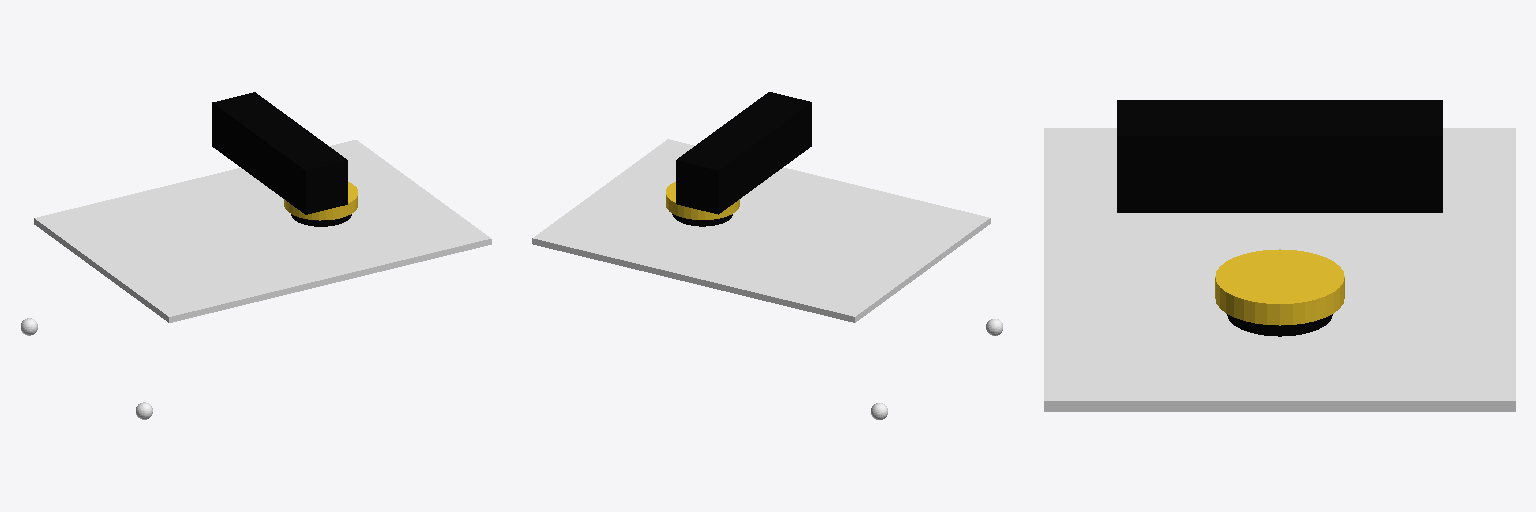
robot.urdf — swd_starter_kit:
<!-- SWD Starter Kit URDF with colored materials -->

<robot name="swd_starter_kit">

  <!-- ========= GLOBAL MATERIALS ========= -->
  <material name="body_dark_grey">
    <color rgba="0.20 0.20 0.22 1.0"/>
  </material>

  <material name="body_light_grey">
    <color rgba="0.70 0.70 0.72 1.0"/>
  </material>

  <material name="wheel_orange">
    <color rgba="0.90 0.55 0.15 1.0"/>
  </material>

  <material name="sensor_yellow">
    <color rgba="0.95 0.80 0.20 1.0"/>
  </material>

  <material name="sensor_black">
    <color rgba="0.05 0.05 0.05 1.0"/>
  </material>

  <material name="caster_white">
    <color rgba="0.95 0.95 0.95 1.0"/>
  </material>

  <material name="acrylic_clear">
    <!-- transparent top plate -->
    <color rgba="0.95 0.95 0.95 0.25"/>
  </material>

  <!-- ========= BASE FOOTPRINT ========= -->
  <link name="base_footprint"/>

  <joint name="base_joint" type="fixed">
    <parent link="base_footprint"/>
    <child link="base_link" />
    <origin xyz="0 0 0" rpy="0 0 0"/>
  </joint>

  <!-- ========= BASE LINK (METAL BODY + TOP PLATE) ========= -->
  <link name="base_link">
    <!-- main body mesh -->
    <visual>
      <origin xyz="-0.46 -0.27 0.0" rpy="0 0 0" />
      <geometry>
        <mesh
            filename="package://swd_starter_kit_description/meshes/starter_kit_base.stl"
            scale="0.001 0.001 0.001" />
      </geometry>
      <material name="body_dark_grey"/>
    </visual>

    <!-- simple transparent top plate (approximation of acrylic cover) -->
    <visual>
      <!-- adjust xyz/size if you want it tighter -->
      <origin xyz="-0.05 0 0.18" rpy="0 0 0"/>
      <geometry>
        <box size="0.55 0.40 0.01"/>
      </geometry>
      <material name="acrylic_clear"/>
    </visual>

    <collision>
      <origin xyz="-0.46 -0.27 0.0" rpy="0 0 0" />
      <geometry>
        <mesh
            filename="package://swd_starter_kit_description/meshes/starter_kit_base.stl"
            scale="0.001 0.001 0.001"/>
      </geometry>
    </collision>

    <inertial>
      <origin xyz="-0.05 0 0" rpy="0 0 0"/>
      <mass value="27"/>
      <inertia ixx="0.70673" ixy="0.0" ixz="0.0"
               iyy="0.70673" iyz="0.0"
               izz="1.31220" />
    </inertial>
  </link>

  <!-- ========= DRIVE WHEELS ========= -->
  <joint name="base_swd_left_joint" type="continuous">
    <parent link="base_link" />
    <child link="swd_left_link" />
    <origin xyz="0.0 0.25 0.08" rpy="-1.57 0 0" />
    <axis xyz="0 0 1" />
  </joint>

  <link name="swd_left_link">
    <visual>
      <origin xyz="0 0 0" rpy="1.57 0 0"/>
      <geometry>
        <mesh filename="package://swd_starter_kit_description/meshes/wheels/starter_kit_left_tire.stl"
               scale="0.001 0.001 0.001"/>
      </geometry>
      <material name="wheel_orange"/>
    </visual>

    <collision>
      <origin xyz="0 0 0" rpy="0 0 0"/>
      <geometry>
        <cylinder length="0.037" radius="0.0630"/>
      </geometry>
    </collision>

    <inertial>
      <origin xyz="0 0 0" />
      <mass value="1" />
      <inertia ixx="0.00111" ixy="0.0" ixz="0.0"
               iyy="0.00111" iyz="0.0"
               izz="0.00198" />
    </inertial>
  </link>

  <joint name="base_swd_right_joint" type="continuous">
    <parent link="base_link" />
    <child link="swd_right_link" />
    <origin xyz="0.0 -0.25 0.08" rpy="-1.57 0 0" />
    <axis xyz="0 0 1" />
  </joint>

  <link name="swd_right_link">
    <visual>
      <origin xyz="0 0 0" rpy="1.57 0 0"/>
      <geometry>
        <mesh filename="package://swd_starter_kit_description/meshes/wheels/starter_kit_right_tire.stl"
               scale="0.001 0.001 0.001"/>
      </geometry>
      <material name="wheel_orange"/>
    </visual>

    <collision>
      <origin xyz="0 0 0" rpy="0 0 0"/>
      <geometry>
        <cylinder length="0.037" radius="0.0630"/>
      </geometry>
    </collision>

    <inertial>
      <origin xyz="0 0 0" />
      <mass value="1" />
      <inertia ixx="0.00111" ixy="0.0" ixz="0.0"
               iyy="0.00111" iyz="0.0"
               izz="0.00198" />
    </inertial>
  </link>

  <!-- ========= REAR CASTERS ========= -->
  <joint name="caster_back_right_joint" type="fixed">
    <parent link="base_link"/>
    <child link="caster_back_right_link"/>
    <origin xyz="-0.35 -0.17 0.025" rpy="0 0 0"/>
  </joint>

  <link name="caster_back_right_link">
    <visual>
      <origin xyz="0 0.001 0" rpy="0 0 0"/>
      <geometry>
        <sphere radius="0.013"/>
      </geometry>
      <material name="caster_white"/>
    </visual>

    <collision>
      <origin xyz="0 0.001 0" rpy="0 0 0"/>
      <geometry>
        <sphere radius="0.01"/>
      </geometry>
    </collision>

    <inertial>
      <origin xyz="0 0 0" />
      <mass value="0.005" />
      <inertia ixx="0.001" ixy="0.0" ixz="0.0"
               iyy="0.001" iyz="0.0"
               izz="0.001" />
    </inertial>
  </link>

  <joint name="caster_back_left_joint" type="fixed">
    <parent link="base_link"/>
    <child link="caster_back_left_link"/>
    <origin xyz="-0.35 0.17 0.025" rpy="0 0 0"/>
  </joint>

  <link name="caster_back_left_link">
    <visual>
      <origin xyz="0 0.001 0" rpy="0 0 0"/>
      <geometry>
        <sphere radius="0.013"/>
      </geometry>
      <material name="caster_white"/>
    </visual>

    <collision>
      <origin xyz="0 0.001 0" rpy="0 0 0"/>
      <geometry>
        <sphere radius="0.01"/>
      </geometry>
    </collision>

    <inertial>
      <origin xyz="0 0 0" />
      <mass value="0.005" />
      <inertia ixx="0.001" ixy="0.0" ixz="0.0"
               iyy="0.001" iyz="0.0"
               izz="0.001" />
    </inertial>
  </link>

  <!-- ========= GAZEBO FRICTION + DIFF DRIVE PLUGIN ========= -->
  <gazebo reference="swd_left_link">
    <mu1>0.7</mu1>
    <mu2>0.7</mu2>
    <kp>500000.0</kp>
    <kd>10.0</kd>
    <minDepth>0.001</minDepth>
    <maxVel>0.1</maxVel>
    <fdir1>1 0 0</fdir1>
    <material>Gazebo/Yellow</material>
  </gazebo>

  <gazebo reference="swd_right_link">
    <mu1>0.7</mu1>
    <mu2>0.7</mu2>
    <kp>500000.0</kp>
    <kd>10.0</kd>
    <minDepth>0.001</minDepth>
    <maxVel>0.1</maxVel>
    <fdir1>1 0 0</fdir1>
    <material>Gazebo/Yellow</material>
  </gazebo>

  <gazebo reference="caster_back_right_link">
    <mu1>0.05</mu1>
    <mu2>0.05</mu2>
    <kp>500000.0</kp>
    <kd>10.0</kd>
    <minDepth>0.001</minDepth>
    <maxVel>1.0</maxVel>
    <material>Gazebo/FlatBlack</material>
  </gazebo>

  <gazebo reference="caster_back_left_link">
    <mu1>0.05</mu1>
    <mu2>0.05</mu2>
    <kp>500000.0</kp>
    <kd>10.0</kd>
    <minDepth>0.001</minDepth>
    <maxVel>1.0</maxVel>
    <material>Gazebo/FlatBlack</material>
  </gazebo>

  <gazebo>
    <plugin name="diff_drive_controller" filename="libgazebo_ros_diff_drive.so">
      <commandTopic>/swd_diff_drive_controller/cmd_vel</commandTopic>
      <odometryTopic>/swd_diff_drive_controller/odom</odometryTopic>
      <odometryFrame>odom</odometryFrame>
      <odometrySource>world</odometrySource>
      <publishOdomTF>true</publishOdomTF>
      <robotBaseFrame>base_link</robotBaseFrame>
      <publishWheelTF>false</publishWheelTF>
      <publishTf>true</publishTf>
      <publishWheelJointState>true</publishWheelJointState>
      <legacyMode>false</legacyMode>
      <updateRate>30</updateRate>
      <leftJoint>base_swd_left_joint</leftJoint>
      <rightJoint>base_swd_right_joint</rightJoint>
      <wheelSeparation>0.485</wheelSeparation>
      <wheelDiameter>0.125</wheelDiameter>
      <wheelAcceleration>11</wheelAcceleration>
      <wheelTorque>37</wheelTorque>
      <rosDebugLevel>na</rosDebugLevel>
    </plugin>
  </gazebo>

  <!-- ========= LIDAR ========= -->
  <joint name="base_laser" type="fixed">
    <origin xyz="0.05 0 0.2" rpy="0 0 0" />
    <parent link="base_link" />
    <child link="laser" />
    <axis xyz="0 0 0" />
  </joint>

  <link name="laser">
    <!-- simple two-part visual: black base + yellow top -->
    <visual>
      <origin xyz="0 0 -0.01" rpy="0 0 0"/>
      <geometry>
        <cylinder length="0.02" radius="0.045"/>
      </geometry>
      <material name="sensor_black"/>
    </visual>

    <visual>
      <origin xyz="0 0 0.01" rpy="0 0 0"/>
      <geometry>
        <cylinder length="0.02" radius="0.055"/>
      </geometry>
      <material name="sensor_yellow"/>
    </visual>

    <collision>
      <origin xyz="0 0 0" rpy="0 0 0"/>
      <geometry>
        <cylinder length="0.04" radius="0.055"/>
      </geometry>
    </collision>

    <inertial>
      <mass value="0.1" />
      <origin xyz="0 0 0" />
      <inertia ixx="0.001" ixy="0.0" ixz="0.0"
               iyy="0.001" iyz="0.0"
               izz="0.001" />
    </inertial>
  </link>

  <gazebo reference="laser">
    <material>Gazebo/FlatBlack</material>
    <sensor type="ray" name="lidar_sensor">
      <pose>0 0 0 0 0 0</pose>
      <visualize>true</visualize>
      <update_rate>30</update_rate>
      <ray>
        <scan>
          <horizontal>
            <samples>1080</samples>
            <resolution>1</resolution>
            <min_angle>-2.356194496154785</min_angle>
            <max_angle>2.356194496154785</max_angle>
          </horizontal>
        </scan>
        <range>
          <min>0.09</min>
          <max>20</max>
          <resolution>0.001</resolution>
        </range>
        <noise>
          <type>gaussian</type>
          <mean>0.0</mean>
          <stddev>0.01</stddev>
        </noise>
      </ray>
      <plugin name="laser_controller" filename="libgazebo_ros_laser.so">
        <topicName>scan</topicName>
        <frameName>laser</frameName>
      </plugin>
    </sensor>
  </gazebo>

  <!-- ========= CAMERA (BLACK BOX STUB) ========= -->
  <joint name="camera_joint" type="fixed">
    <parent link="base_link"/>
    <child link="camera_link"/>
    <origin xyz="-0.05 0 0.3" rpy="0 0 0"/>
    <axis xyz="0 0 0"/>
    <limit lower="0" upper="0" effort="0" velocity="0"/>
  </joint>

  <link name="camera_link">
    <inertial>
      <mass value="0.1"/>
      <origin xyz="0 0 0" rpy="0 0 0"/>
      <inertia ixx="0" ixy="0" ixz="0" iyy="0" iyz="0" izz="0"/>
    </inertial>

    <!-- replaced missing tbot_sim Kinect mesh with a simple black box -->
    <collision name="kinect_collision">
      <origin xyz="0.03 0 0" rpy="0 0 0"/>
      <geometry>
        <box size="0.073 0.276 0.072"/>
      </geometry>
    </collision>

    <visual name="kinect_visual">
      <origin xyz="0.03 0 0" rpy="0 0 0"/>
      <geometry>
        <box size="0.073 0.276 0.072"/>
      </geometry>
      <material name="sensor_black"/>
    </visual>
  </link>

</robot>

--- Render facts (derived) ---
3 views of the same robot in one strip: view 1: azimuth 30°, elevation 25°; view 2: azimuth 150°, elevation 25°; view 3: azimuth 270°, elevation 25° (orthographic).
Robot: swd_starter_kit — 8 links, 7 joints (2 continuous, 5 fixed); root link base_footprint; default pose: all joints at 0.
Visible links, largest first — view 1: base_link, camera_link, laser; view 2: base_link, camera_link, laser; view 3: base_link, camera_link, laser.
Boxes of the visible links, <box> form: base_link: <box>34,140,491,322</box>; camera_link: <box>212,92,347,214</box>; laser: <box>284,182,357,226</box>; base_link: <box>532,139,990,322</box>; camera_link: <box>676,92,811,214</box>; laser: <box>666,182,739,226</box>; base_link: <box>1044,128,1515,411</box>; camera_link: <box>1117,100,1442,212</box>; laser: <box>1215,249,1344,336</box>.
Size in the robot's own frame: 0.588 by 0.4 by 0.324 metres.
0 mesh visuals loaded from 3 distinct referenced files (none loaded); not drawn: 3 (reference not matched to a file when rendering).
